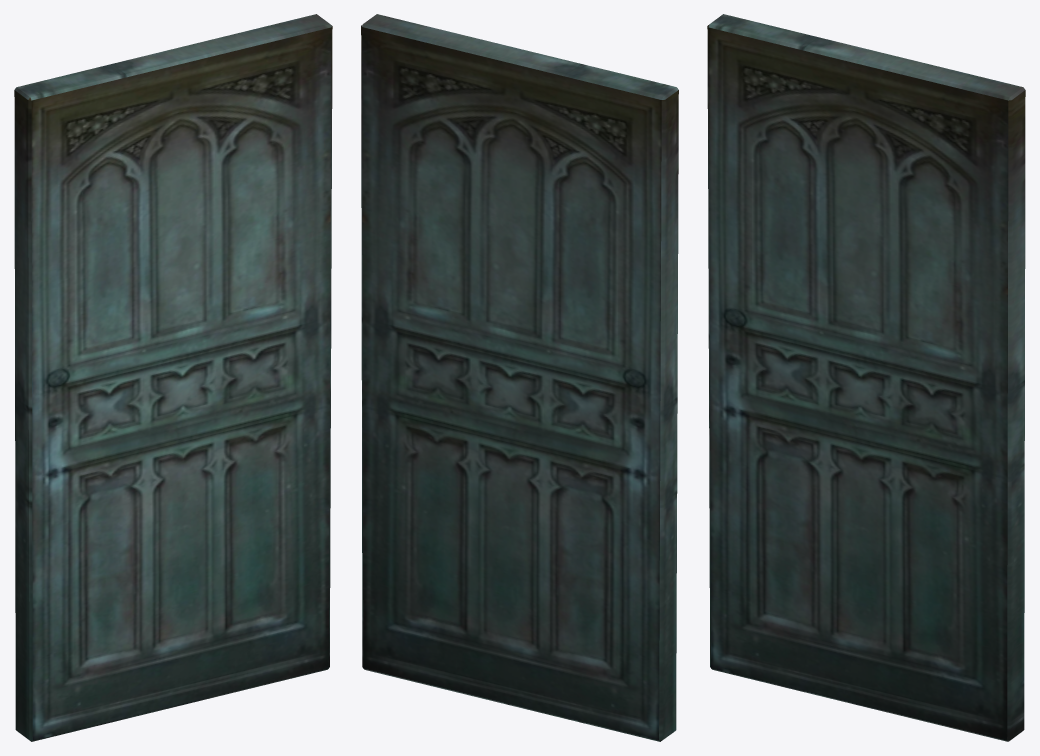
Rendered from Mausoleum Door.fbx.
The picture shows the model from 3 angles, left to right: view 1: azimuth 30°, elevation 25°; view 2: azimuth 150°, elevation 25°; view 3: azimuth 330°, elevation 25°; orthographic projection.
Parts seen in each view (by area): view 1: Mausoleum Door; view 2: Mausoleum Door; view 3: Mausoleum Door.
Part boxes in pixels (x1=…): Mausoleum Door: x1=14, y1=14, x2=332, y2=741; Mausoleum Door: x1=361, y1=14, x2=678, y2=741; Mausoleum Door: x1=707, y1=14, x2=1025, y2=741.
Size of the model in its own units: 141 by 286 by 13.58.
Materials: 1 (1 with a texture image).
